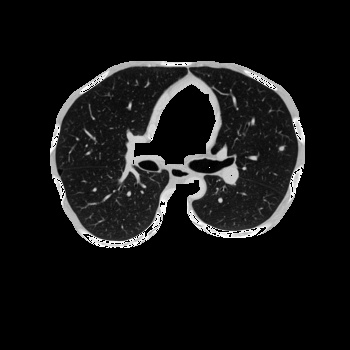PN: (279, 145, 285, 151)
